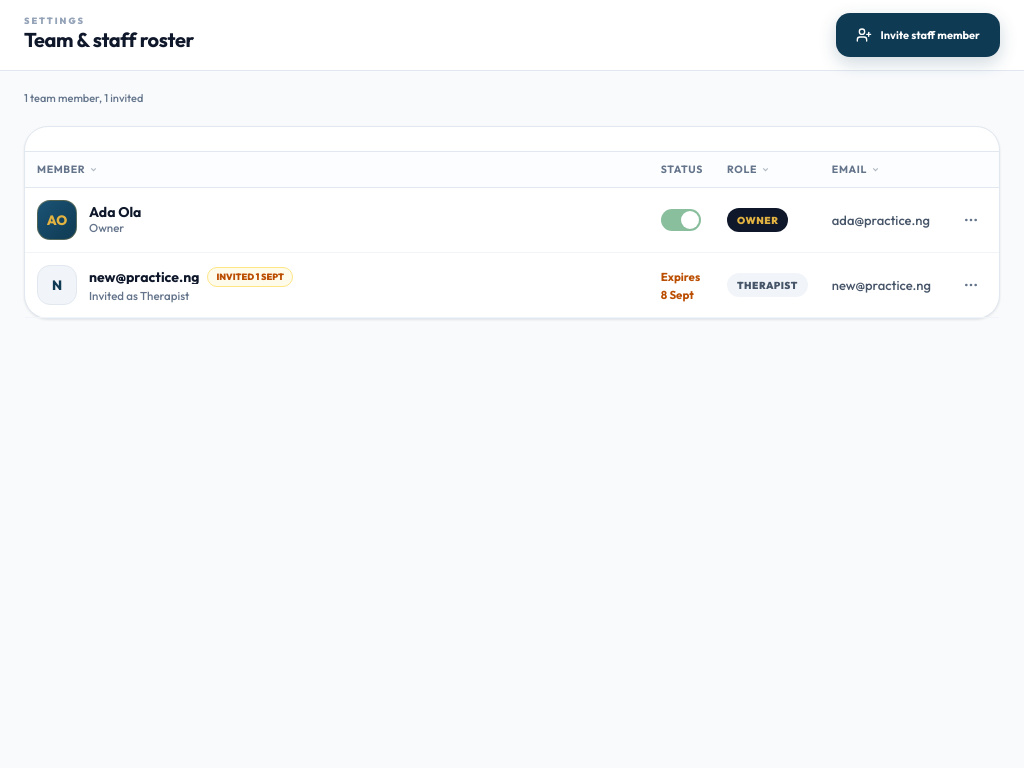
Test: invitations on the roster › say that resending retires the previous link
The image size is (1024, 768).
Click the button named "Actions for new@practice.ng": [971, 285] box 955,269 -> 987,301
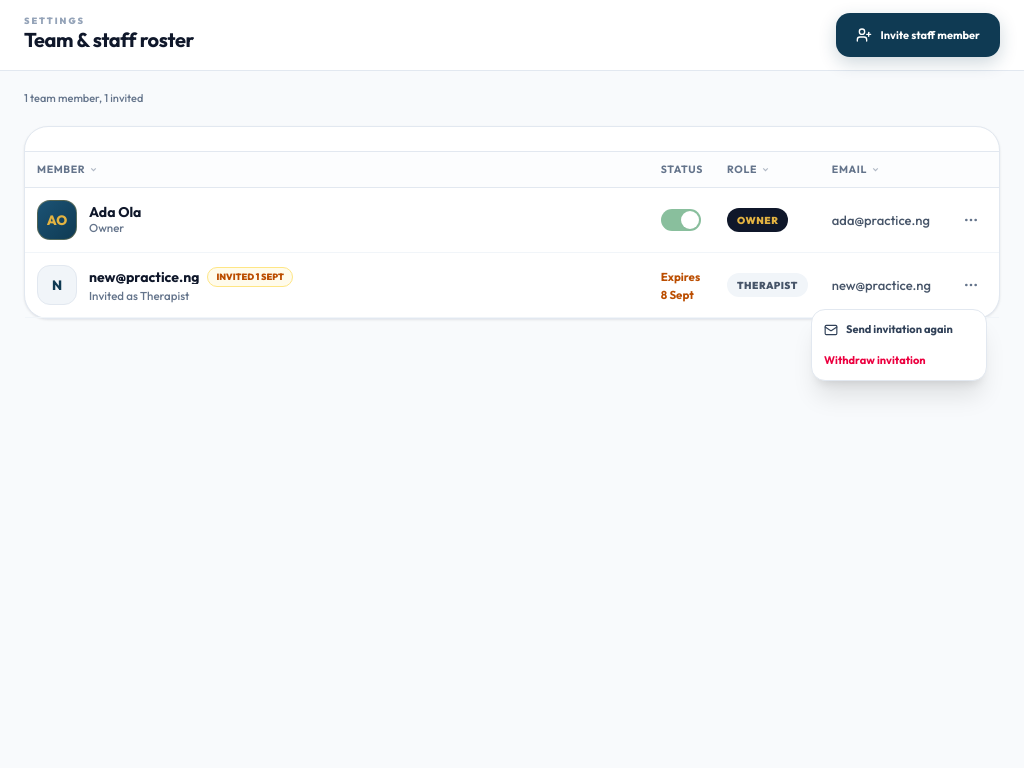
Click the button "Send invitation again": [899, 330] box 812,314 -> 986,345
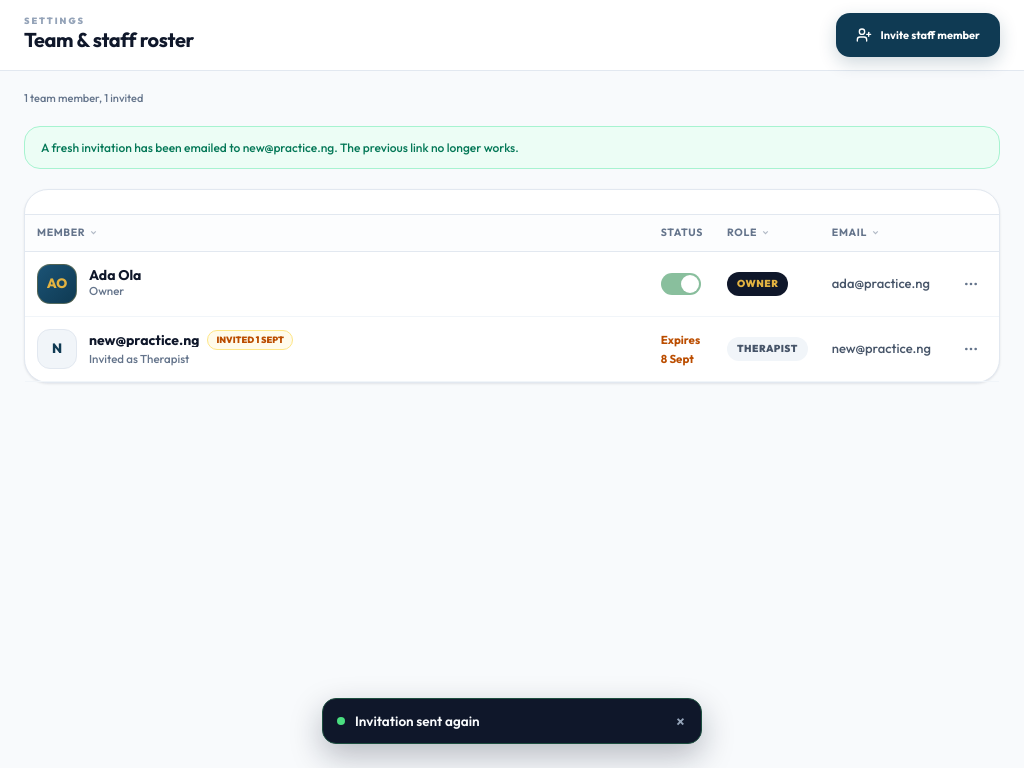
Expected: the text "previous link no longer works" is shown, 41,140 -> 519,155
